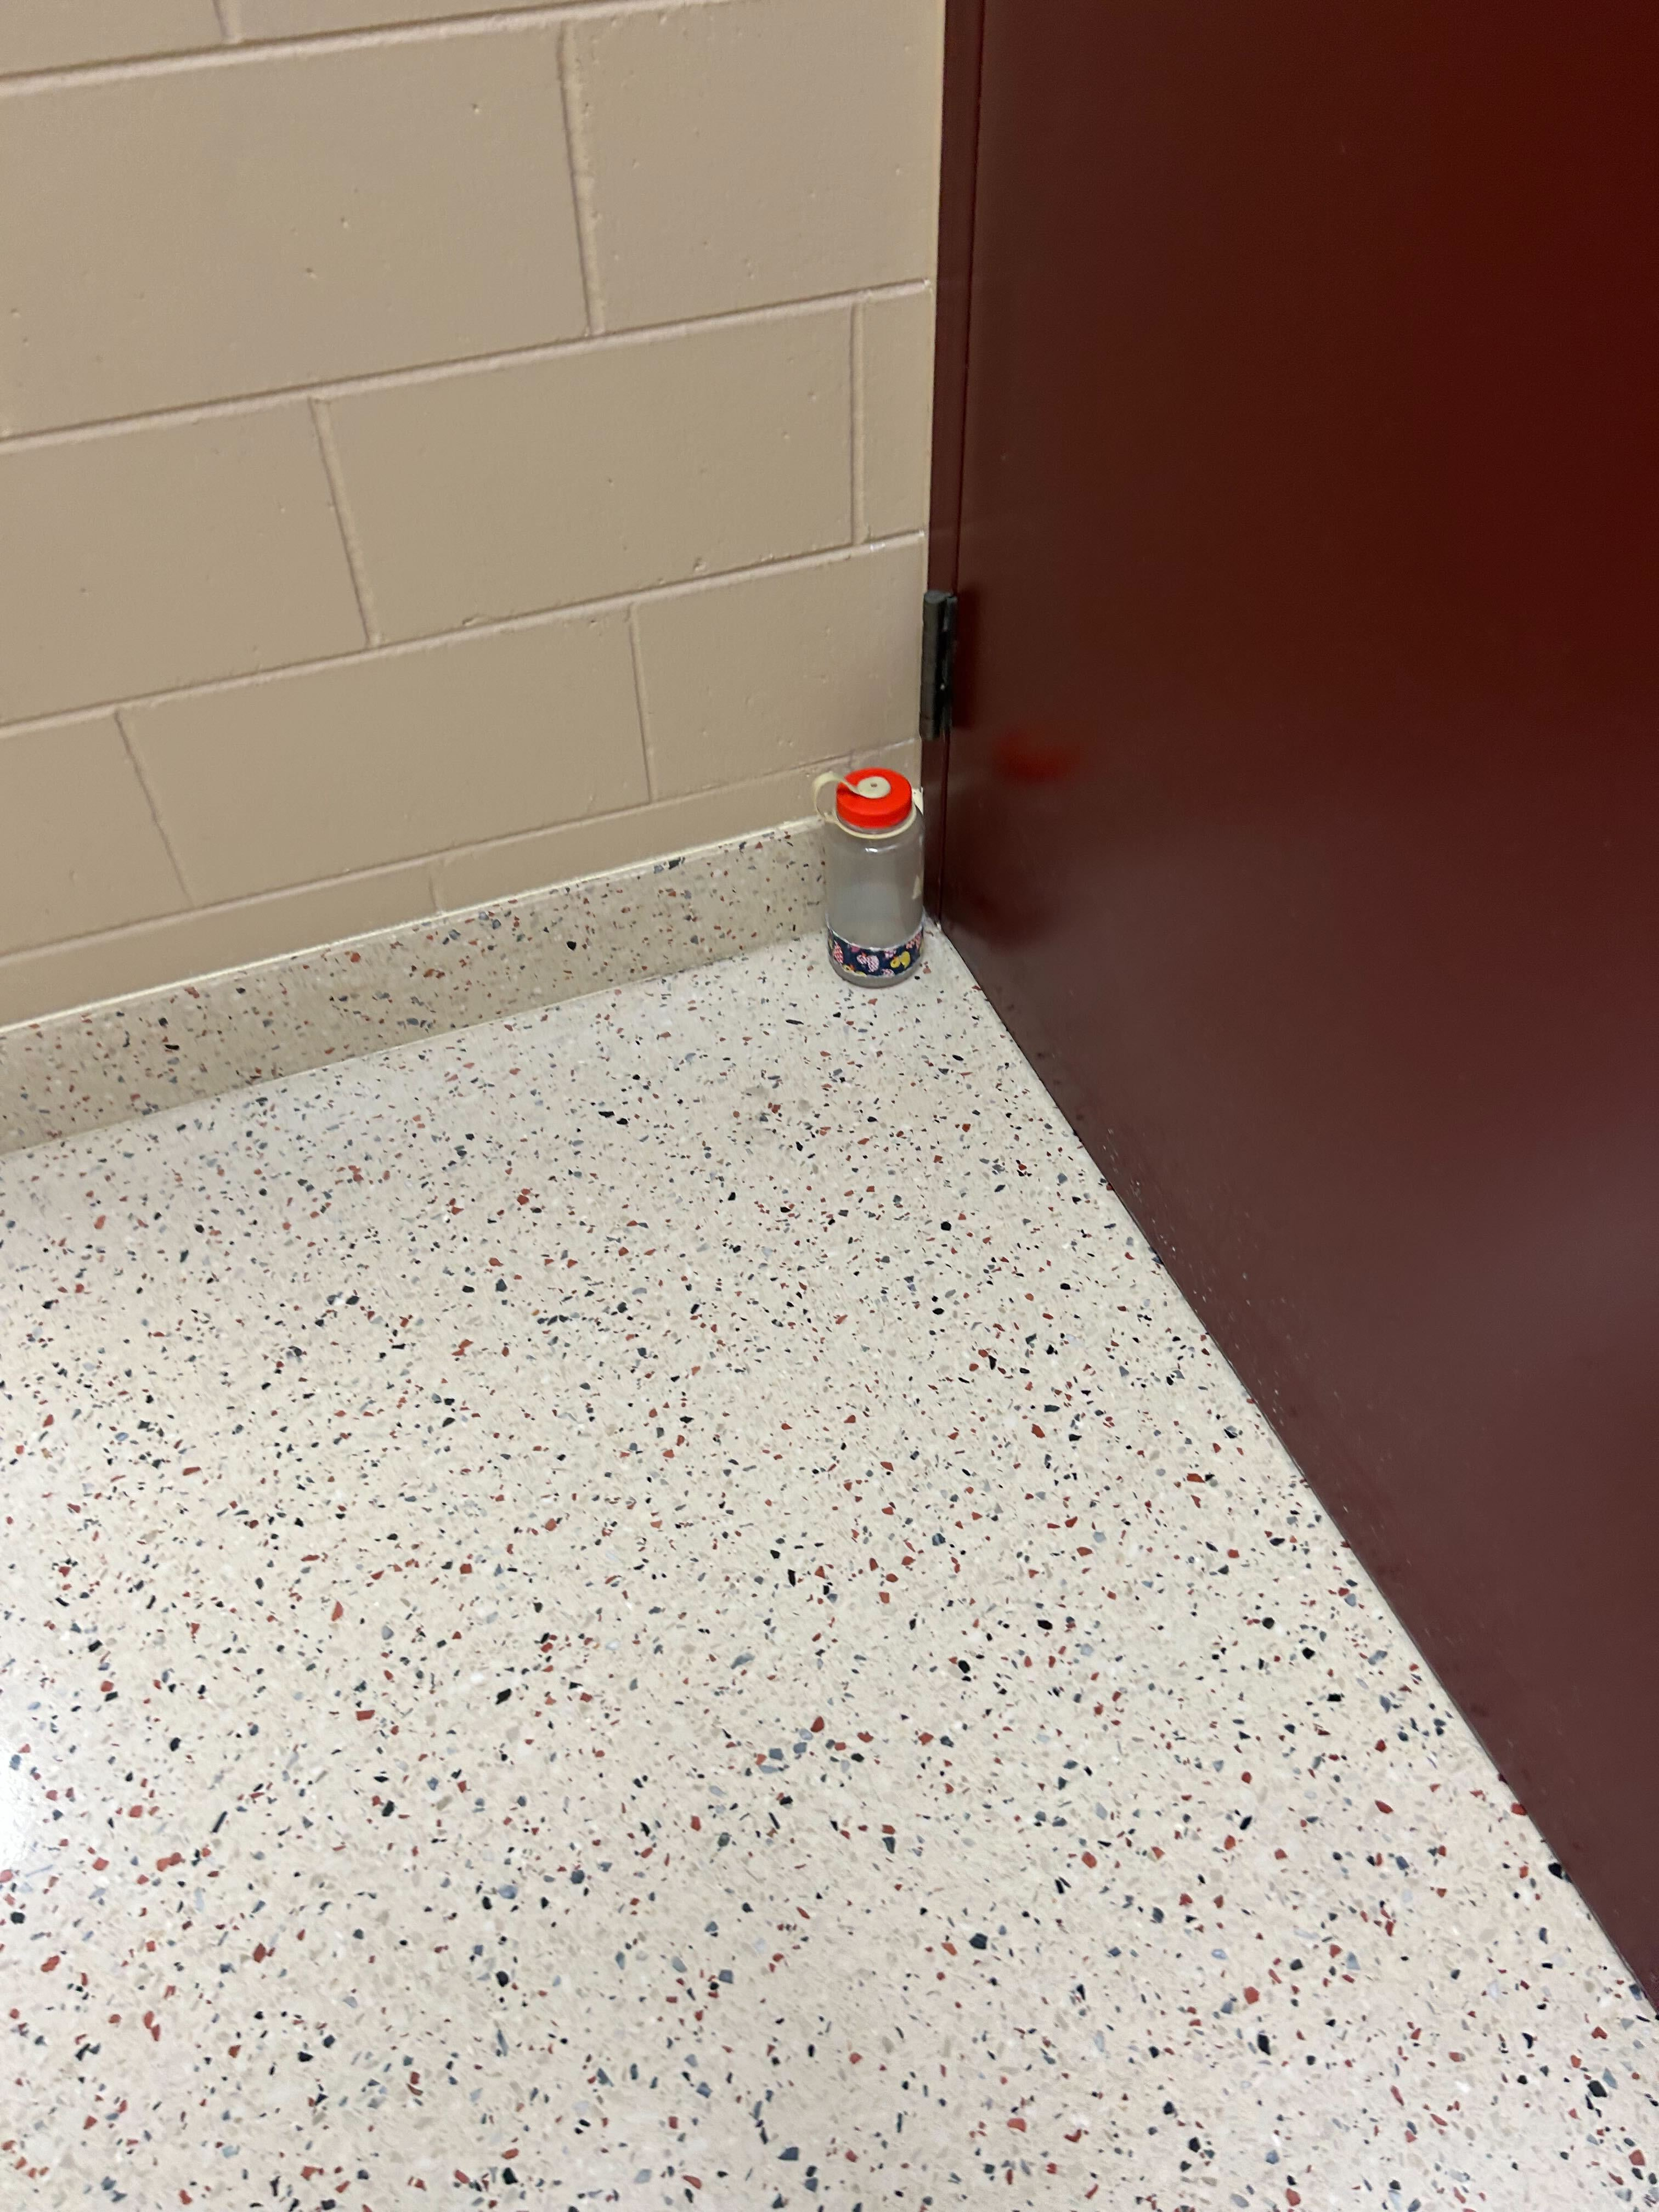bottle: (807, 754, 929, 995)
